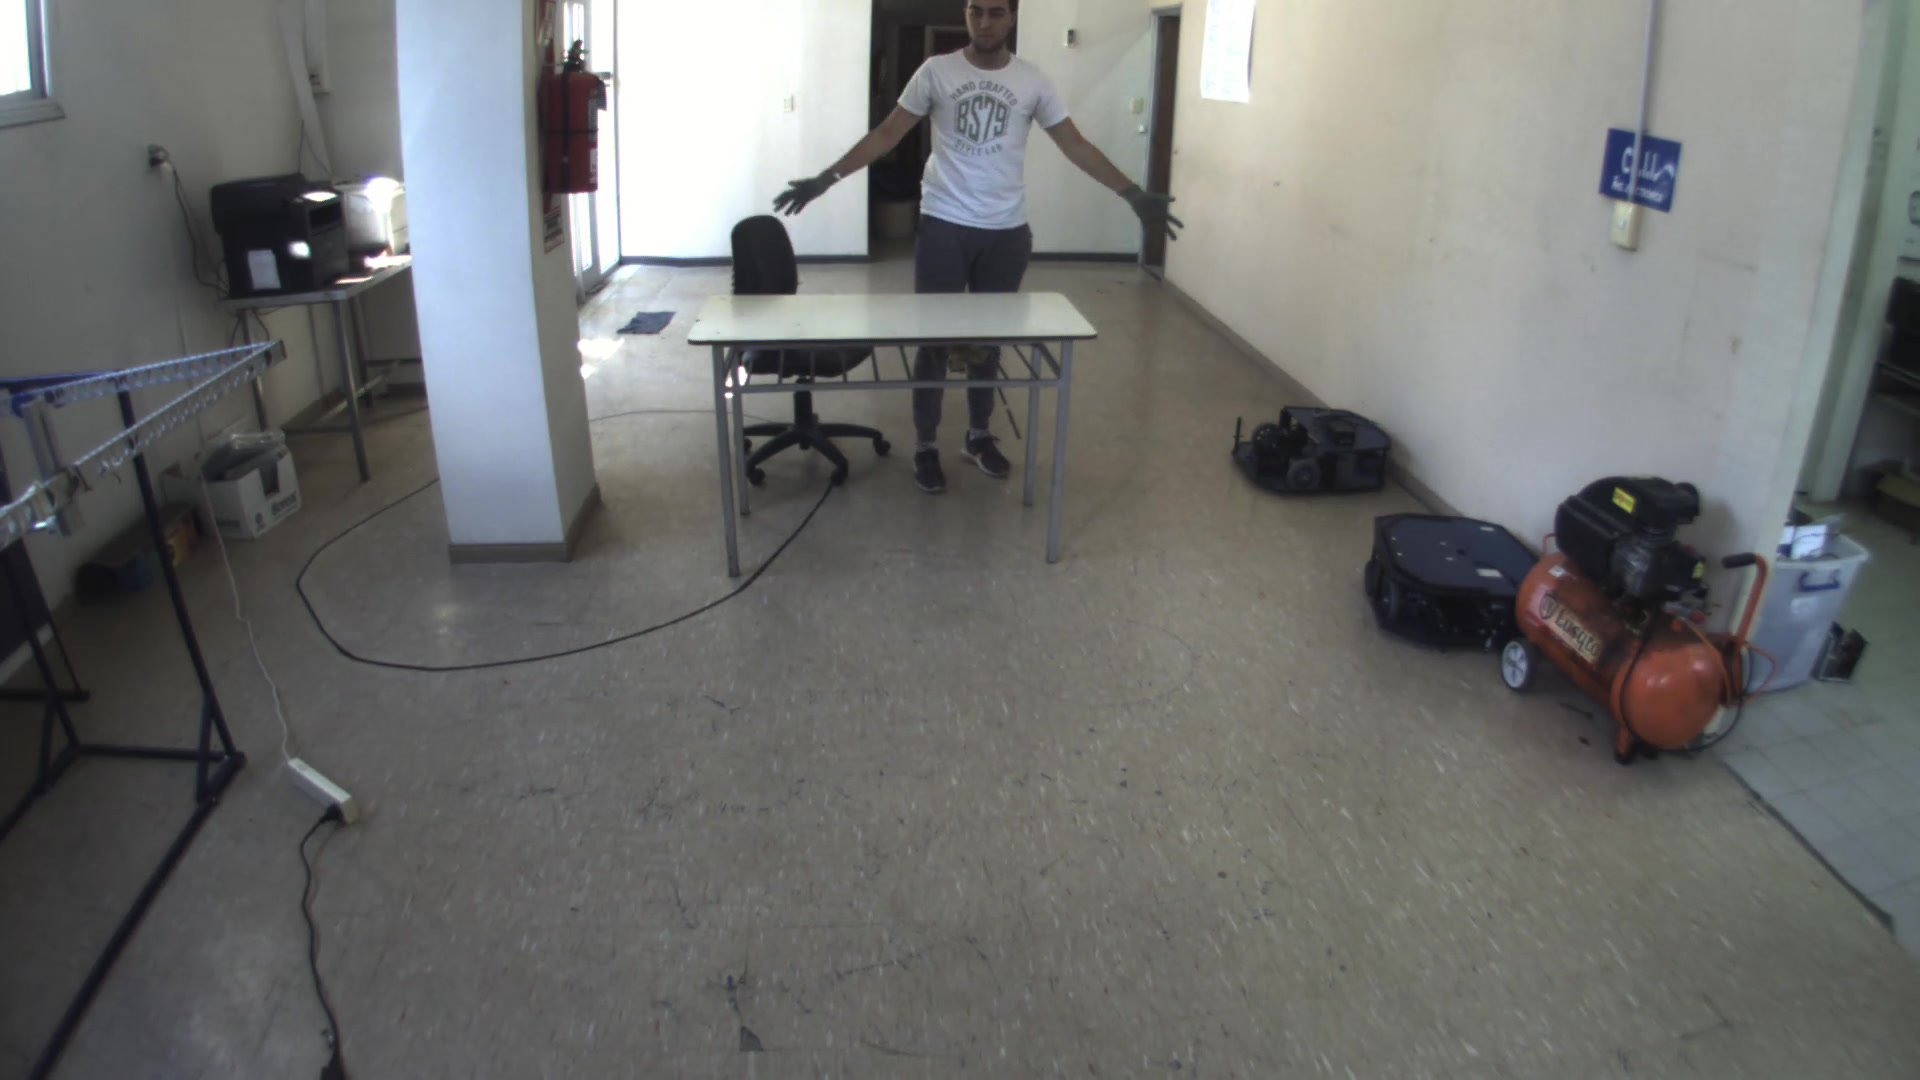hand: (1121, 175, 1195, 255), (766, 165, 839, 218)
